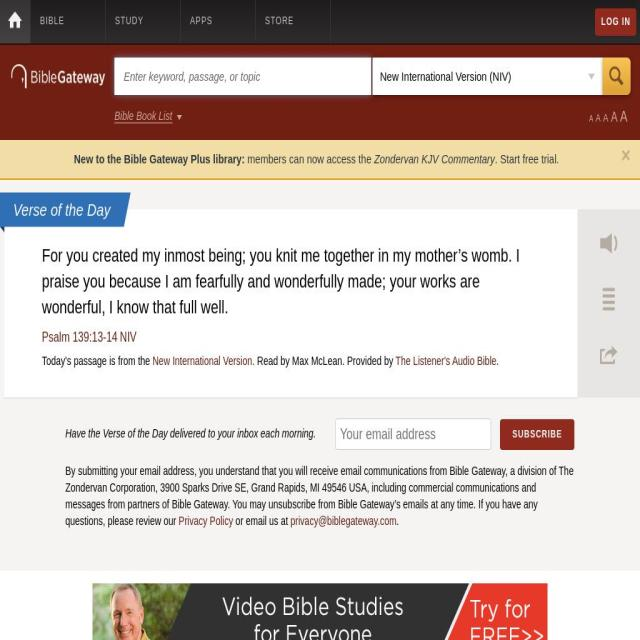button: (114, 105, 630, 123), (30, 0, 106, 42), (180, 0, 256, 42), (106, 0, 180, 42), (256, 0, 330, 42), (499, 418, 575, 450), (11, 64, 105, 88), (594, 8, 637, 36), (602, 57, 630, 95), (620, 144, 630, 166)
field: (115, 57, 372, 95), (372, 57, 602, 95), (334, 418, 492, 450)
heading: (11, 64, 105, 88)
iframe: (92, 583, 548, 640)
image: (0, 0, 30, 43)
link: (74, 152, 245, 166), (374, 152, 496, 166), (290, 514, 397, 528), (152, 354, 254, 368), (395, 354, 496, 368), (42, 330, 117, 344), (178, 514, 233, 528), (119, 330, 137, 344)
text: (42, 242, 540, 320), (65, 464, 574, 528), (577, 209, 640, 397), (65, 427, 316, 440), (254, 354, 396, 368), (13, 200, 111, 219), (244, 152, 374, 166), (42, 354, 152, 368), (494, 152, 559, 166), (232, 514, 290, 528), (114, 110, 172, 123), (620, 108, 628, 125), (611, 110, 618, 124), (602, 112, 608, 124), (595, 113, 601, 124), (588, 115, 594, 124), (496, 354, 499, 368), (396, 514, 399, 528)
